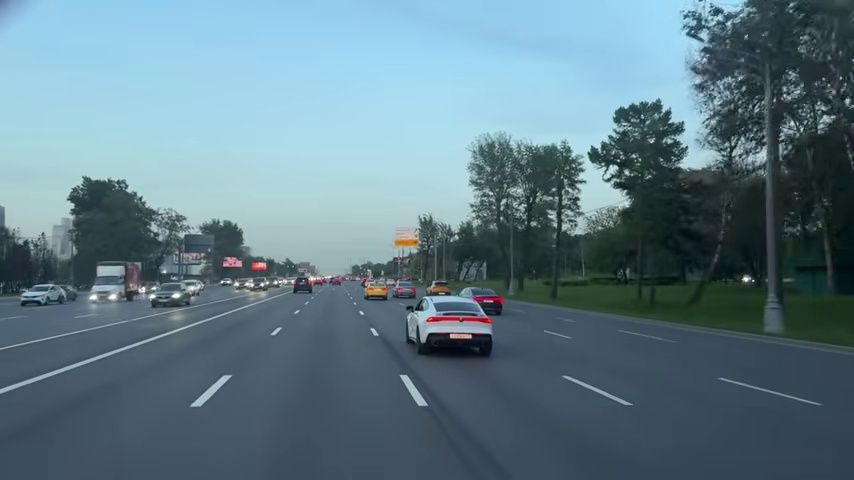apagada: (194, 372, 233, 410)
